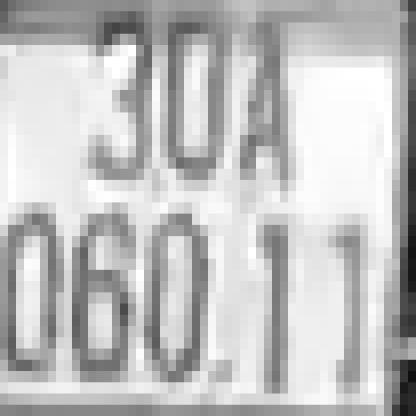0: (160, 11, 224, 180)
3: (88, 11, 152, 180)
A: (232, 23, 288, 191)
